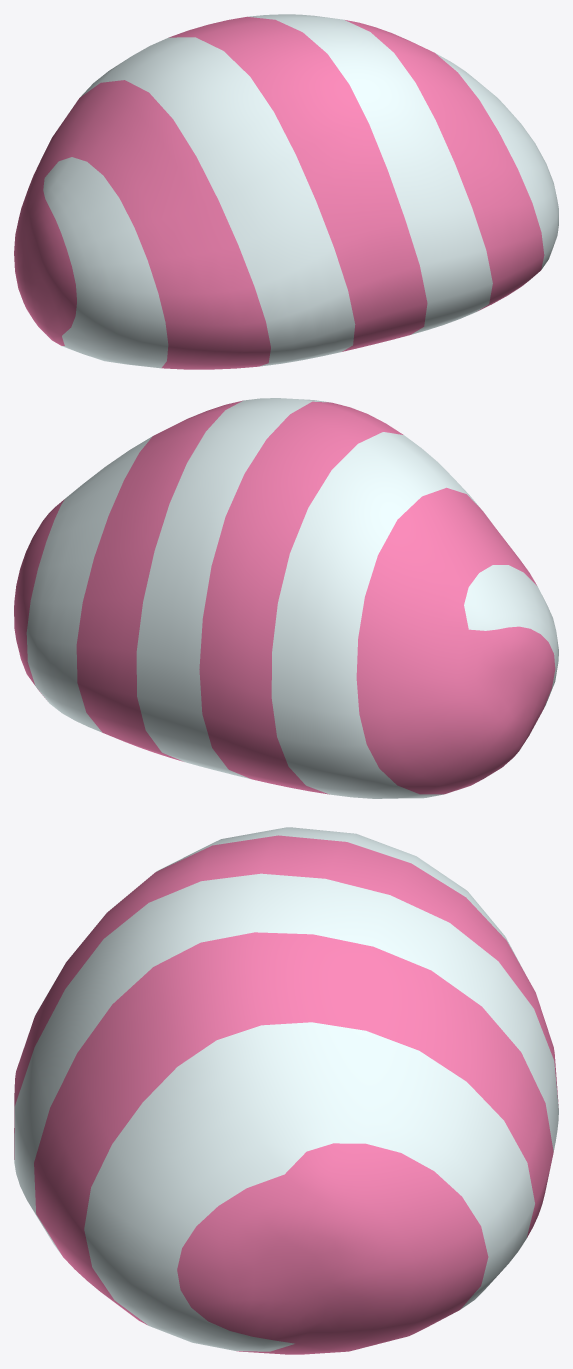
File: CandyPlant_C_02.fbx
3 views of the same model, one above another, from view 1: azimuth 30°, elevation 25°; view 2: azimuth 150°, elevation 25°; view 3: azimuth 270°, elevation 25° (orthographic). The views are drawn at different scales.
Parts seen in each view (by area): view 1: CandyPlant_C_02_LOD0; view 2: CandyPlant_C_02_LOD0; view 3: CandyPlant_C_02_LOD0.
Part boxes in pixels (left/top/right/bottom): CandyPlant_C_02_LOD0: left=14, top=14, right=558, bottom=369; CandyPlant_C_02_LOD0: left=14, top=398, right=558, bottom=798; CandyPlant_C_02_LOD0: left=14, top=827, right=558, bottom=1354.
Size of what is drawn, in the model's own units: 647 by 381 by 492.
